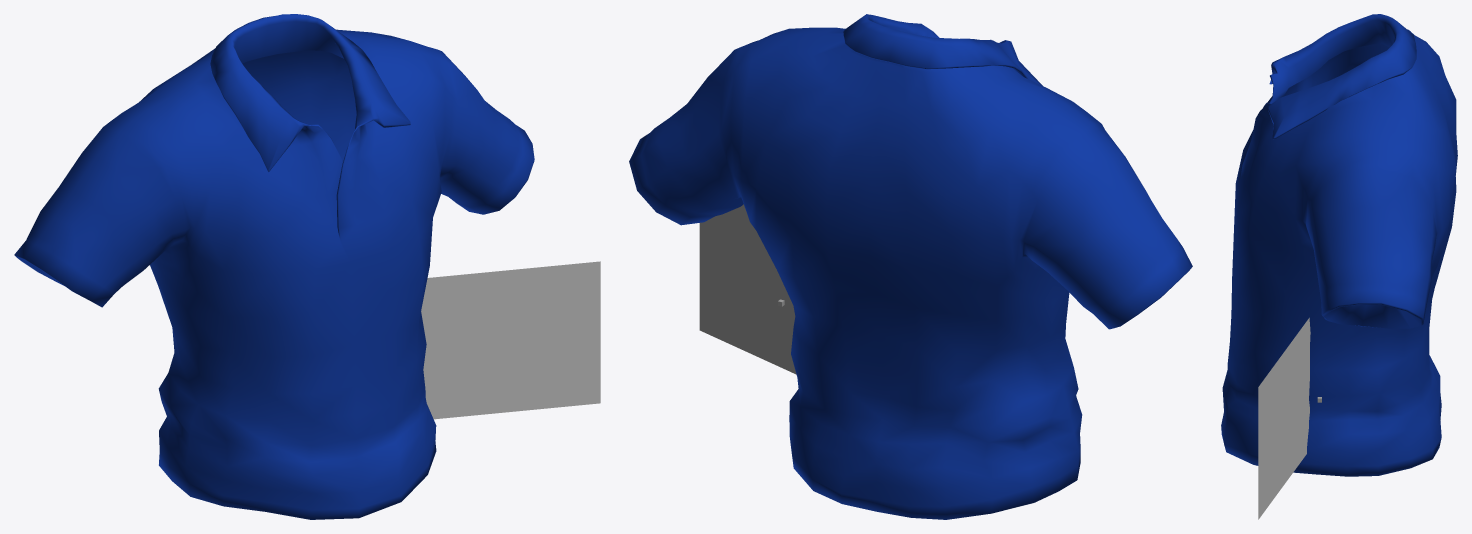
File: USFlag.obj
The picture shows the model from 3 angles, left to right: view 1: azimuth 30°, elevation 25°; view 2: azimuth 150°, elevation 25°; view 3: azimuth 270°, elevation 25°; orthographic projection. The views are drawn at different scales.
Visible parts, largest first — view 1: Mesh_0219.rip_Tex_011_Mesh_0219.rip_Tex_011_Tex_0117_0.dds_.000, American-Flag; view 2: Mesh_0219.rip_Tex_011_Mesh_0219.rip_Tex_011_Tex_0117_0.dds_.000, American-Flag; view 3: Mesh_0219.rip_Tex_011_Mesh_0219.rip_Tex_011_Tex_0117_0.dds_.000, American-Flag.
Boxes of the visible parts, x1,y1,x2,y2 form: Mesh_0219.rip_Tex_011_Mesh_0219.rip_Tex_011_Tex_0117_0.dds_.000: (14,14,534,519); American-Flag: (421,261,600,419); Mesh_0219.rip_Tex_011_Mesh_0219.rip_Tex_011_Tex_0117_0.dds_.000: (629,14,1192,519); American-Flag: (699,204,796,374); Mesh_0219.rip_Tex_011_Mesh_0219.rip_Tex_011_Tex_0117_0.dds_.000: (1221,14,1457,476); American-Flag: (1258,317,1310,519).
Bounding box in the file's own units: 258 × 209 × 111.
